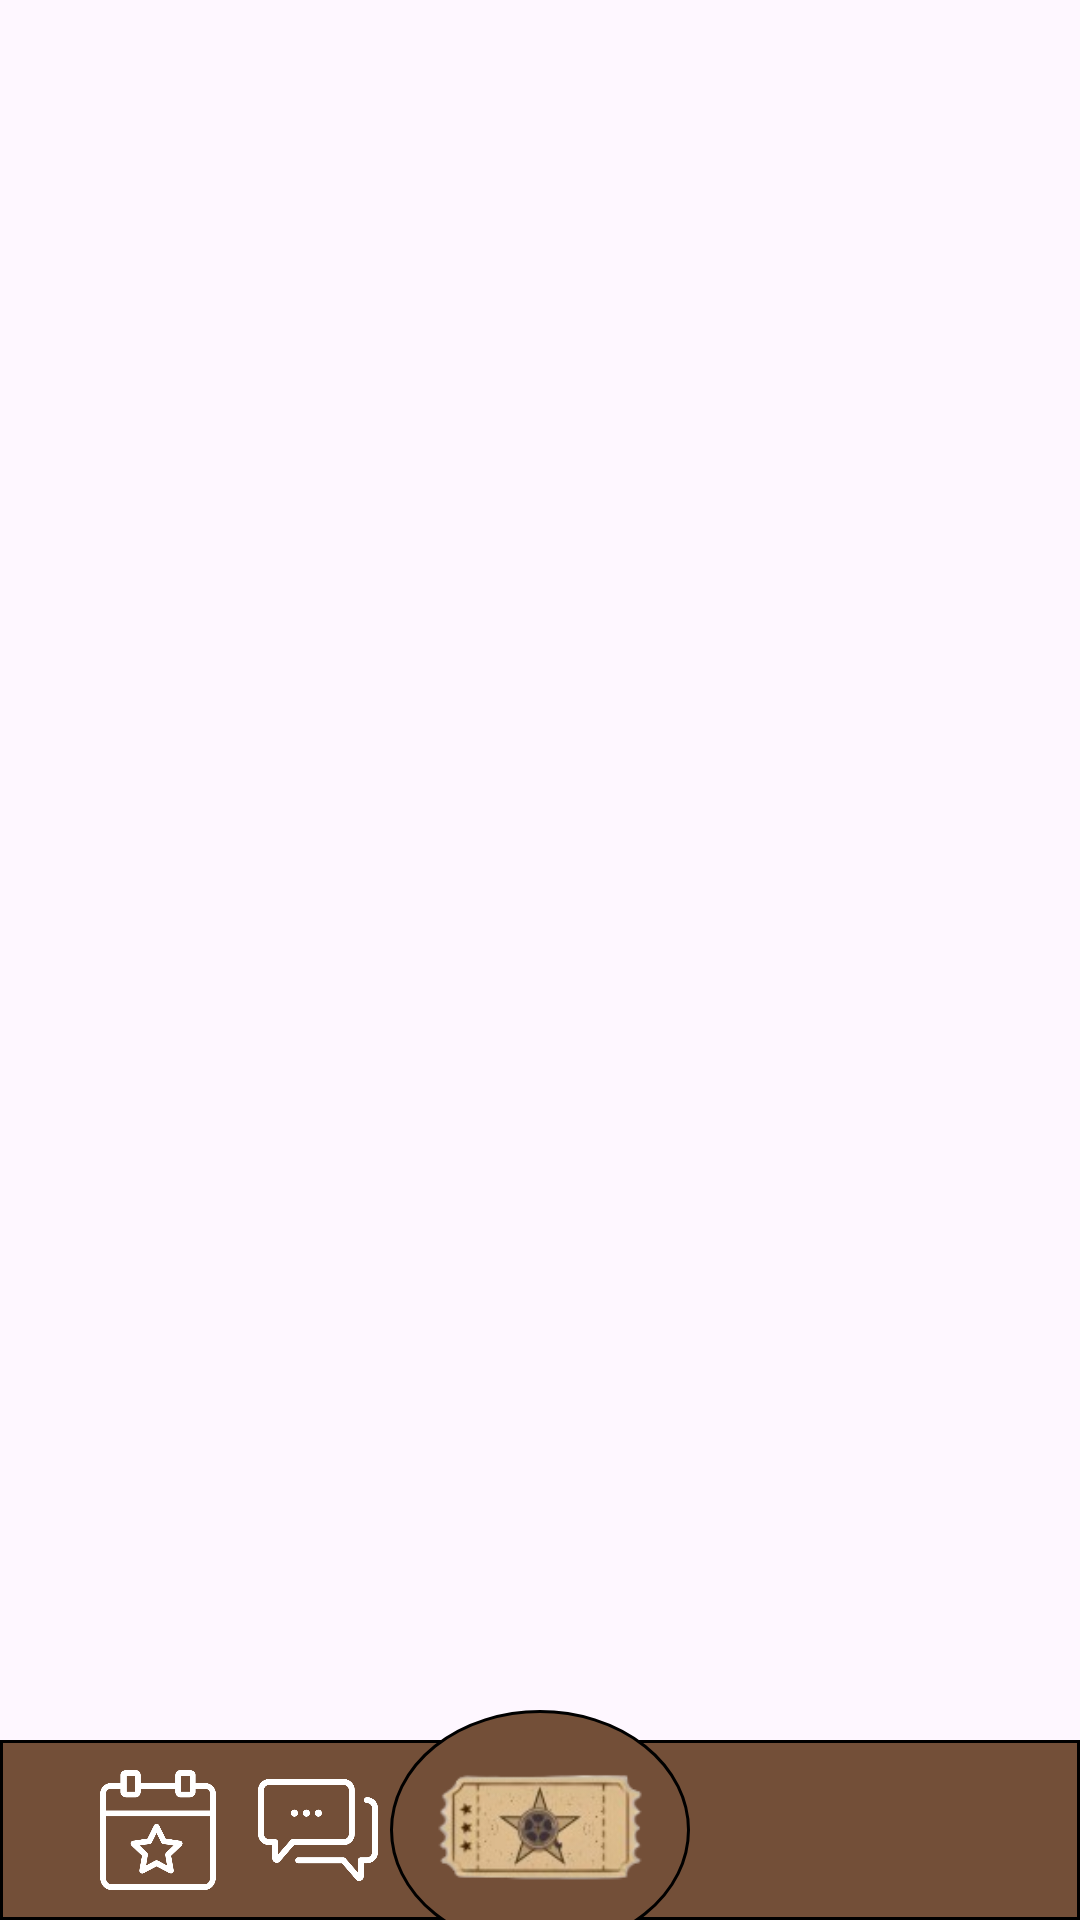

Where icons sit on this 1080×1920 app screen, as (x1, y1, x2, y2):
chat: (258, 1779, 378, 1881)
event: (100, 1770, 216, 1890)
reserva: (439, 1775, 642, 1880)
